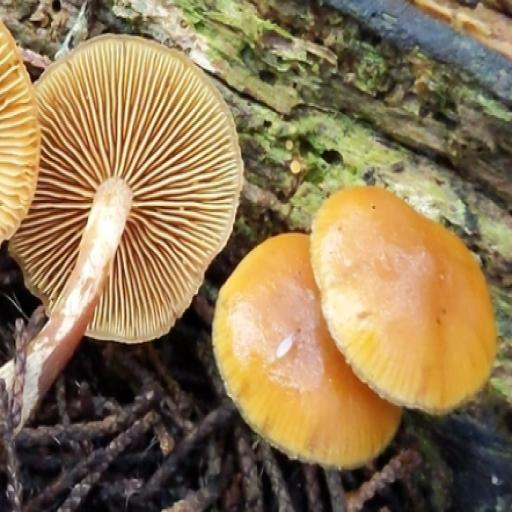mushroom: (1, 10, 248, 359), (211, 184, 505, 470)
